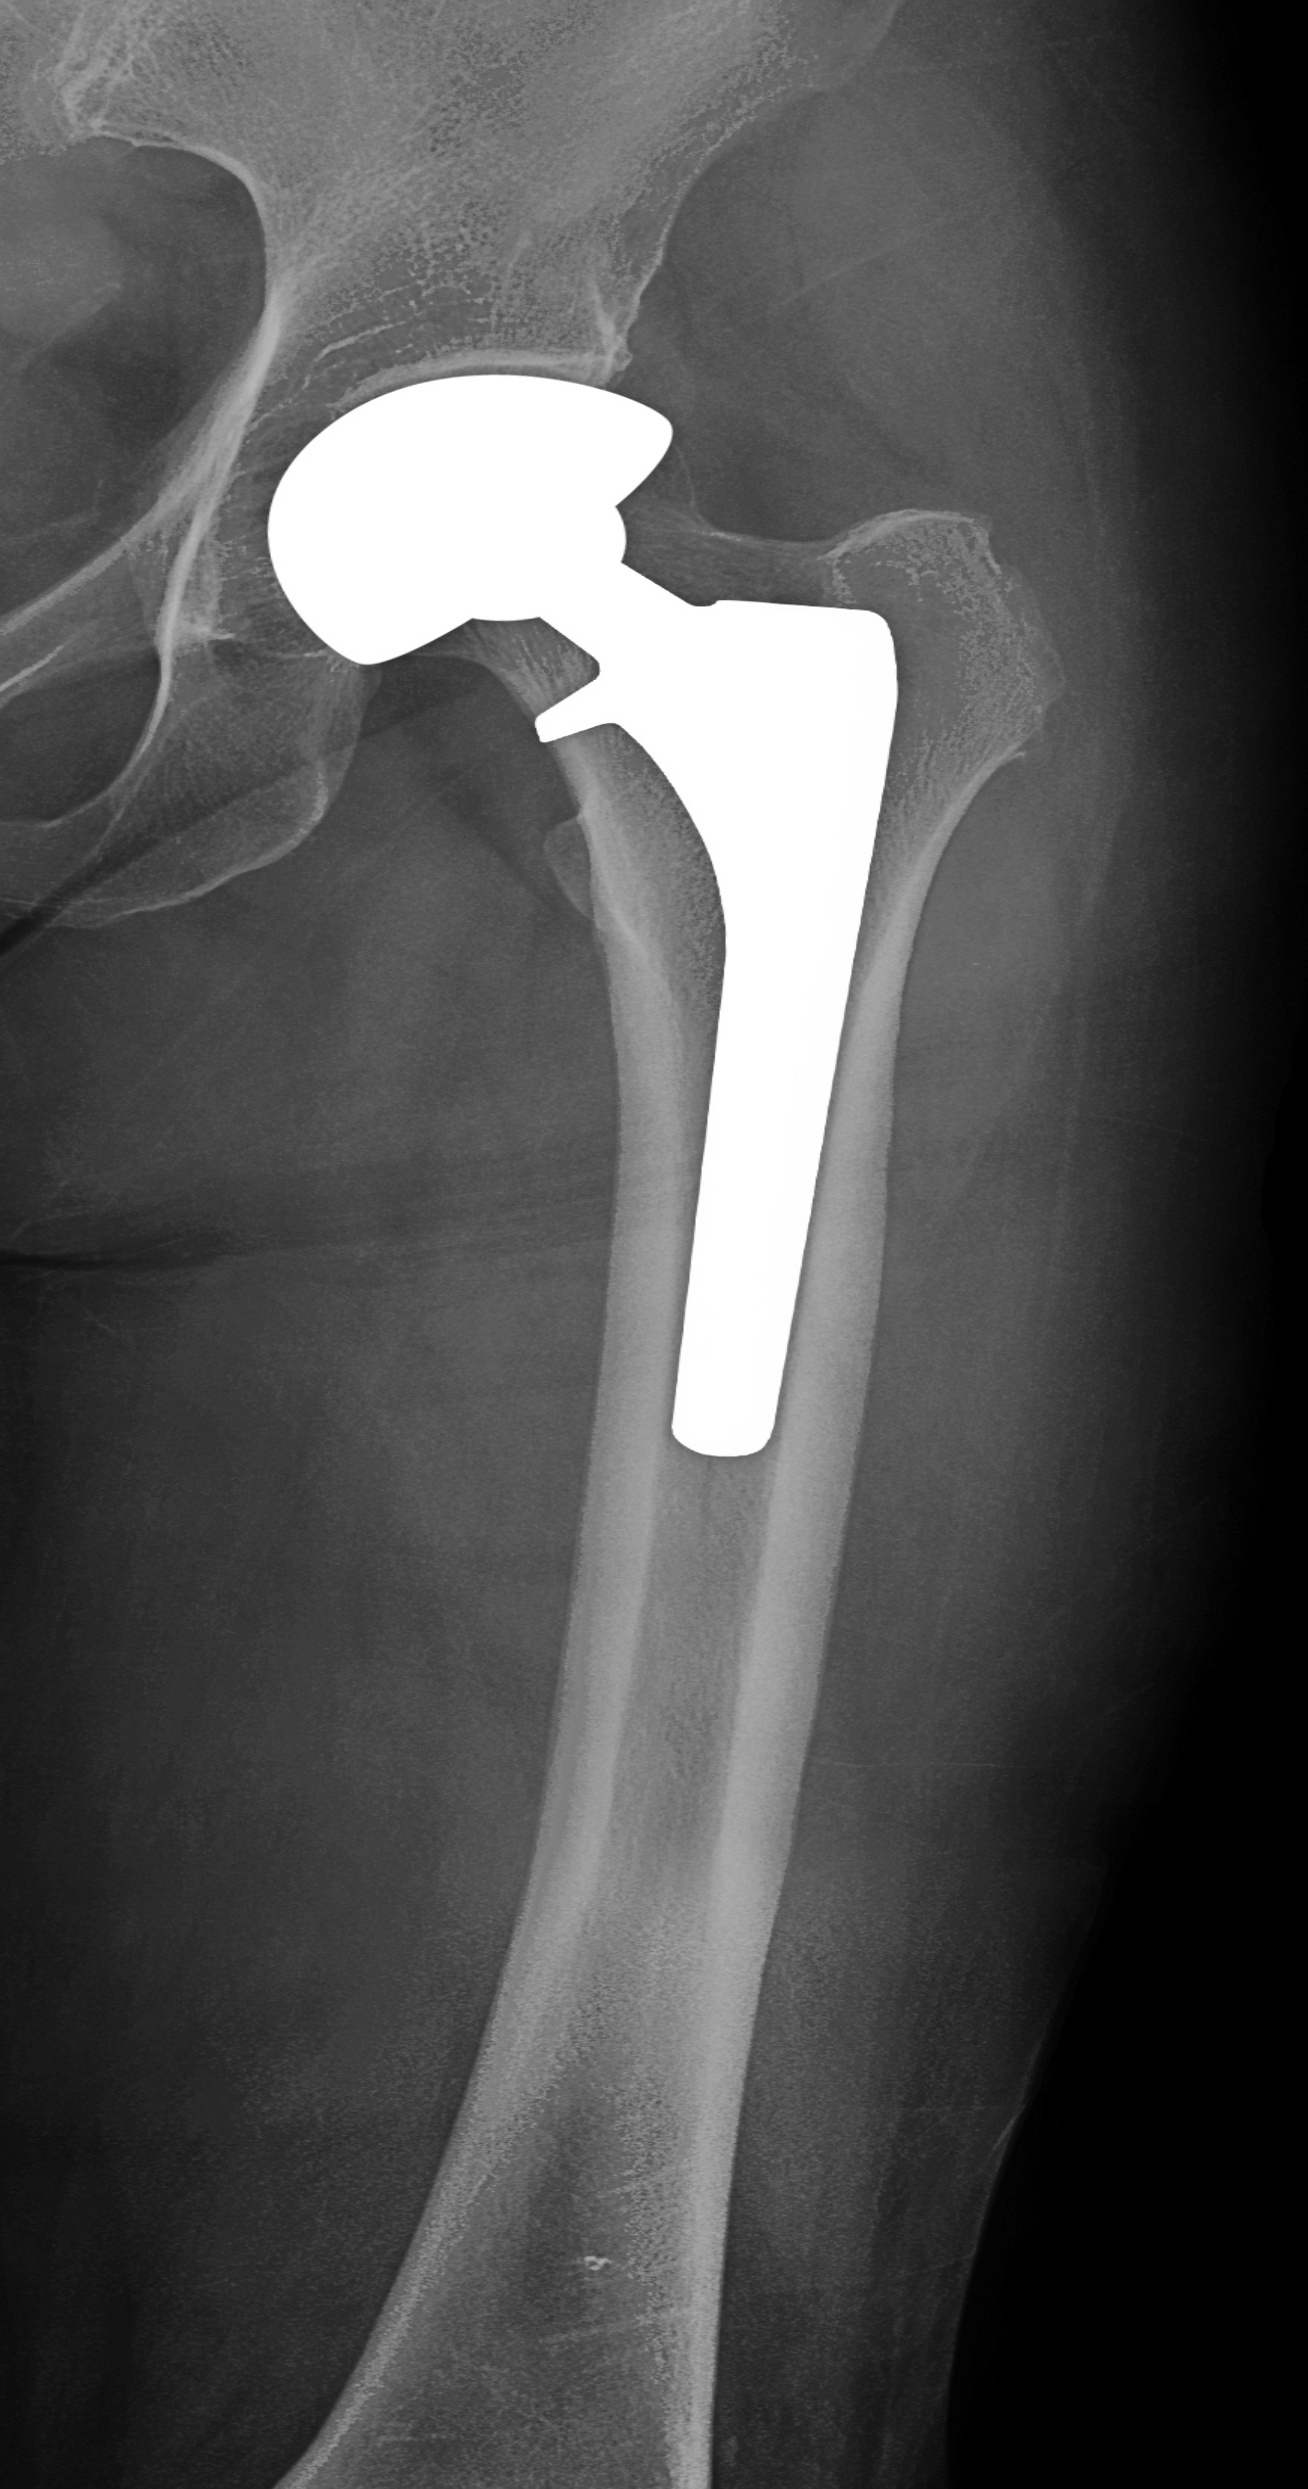Hip - APR - Zimmer: (225, 331, 1000, 1598)
